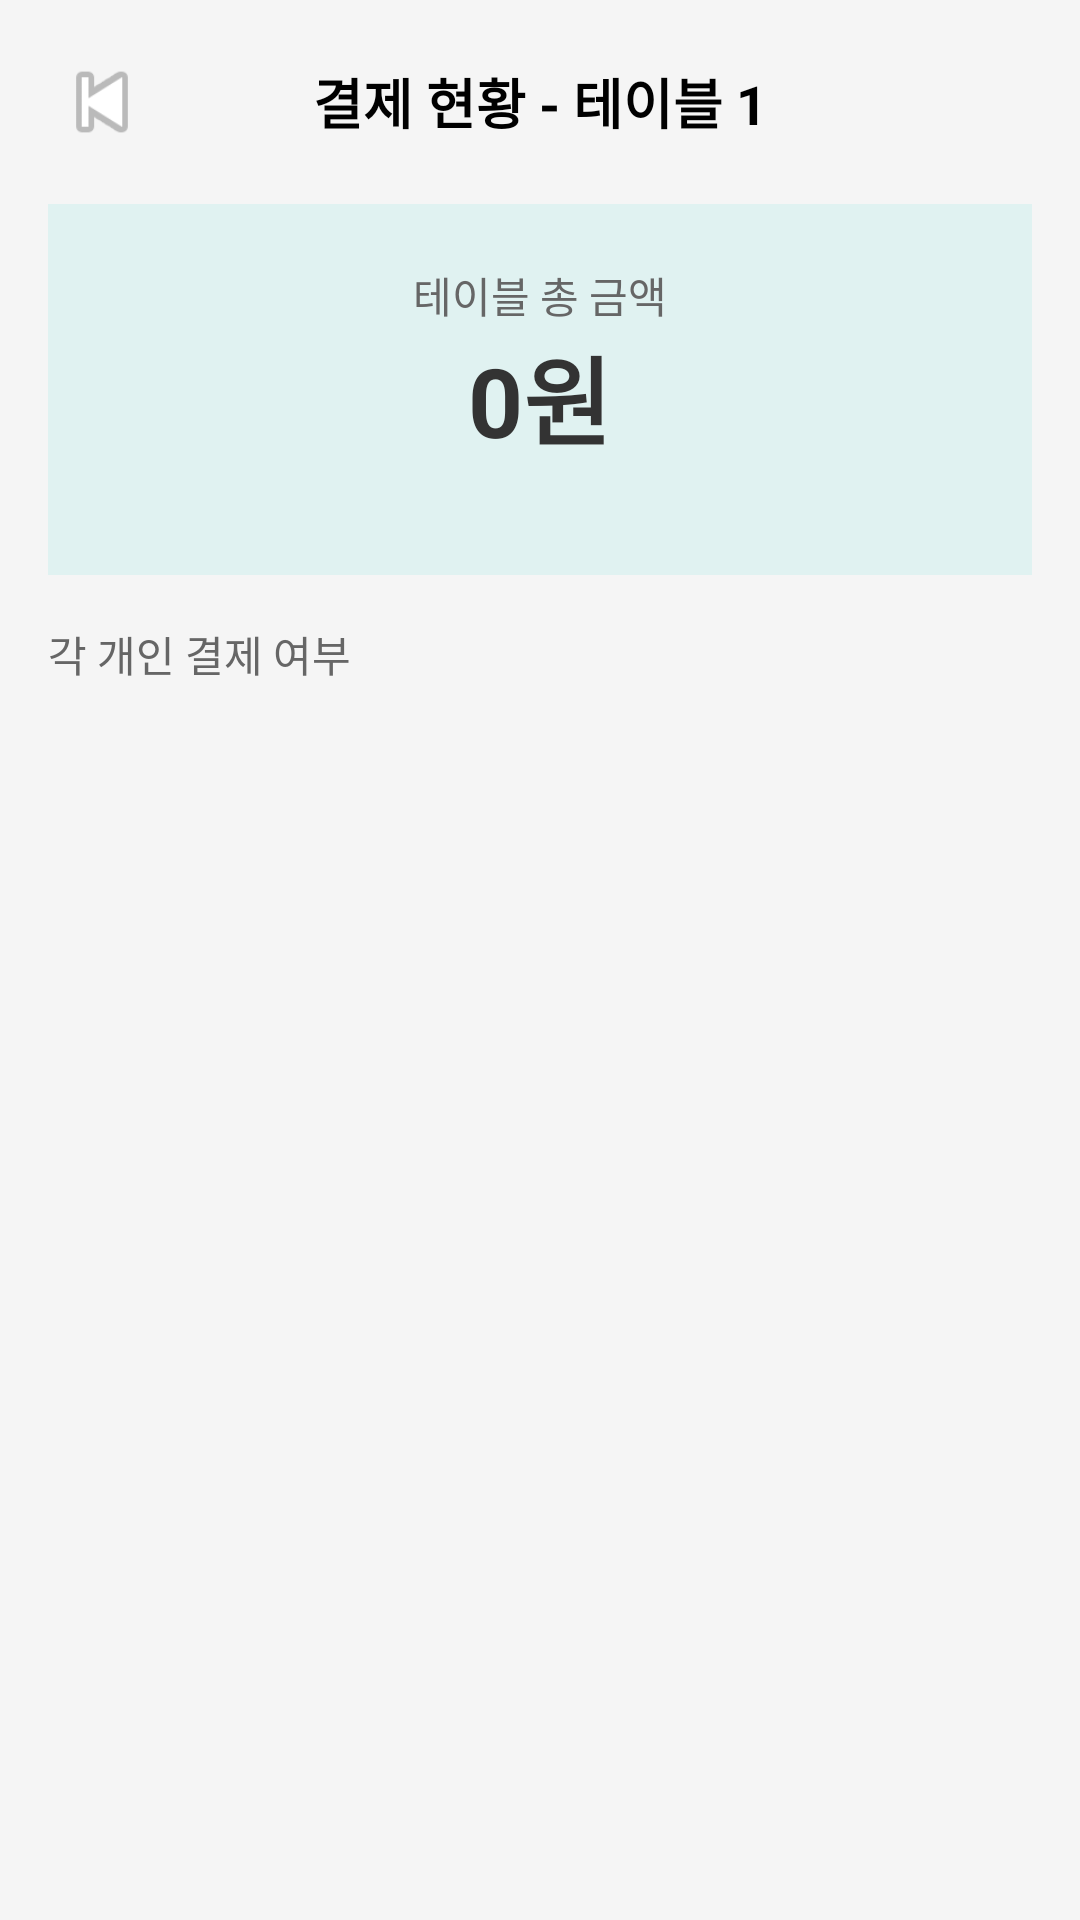

Named icons in this screenshot (1080 × 1920) and their bounding boxes, BBox(x1, y1, x2, y2):
previous: BBox(76, 71, 128, 133)
